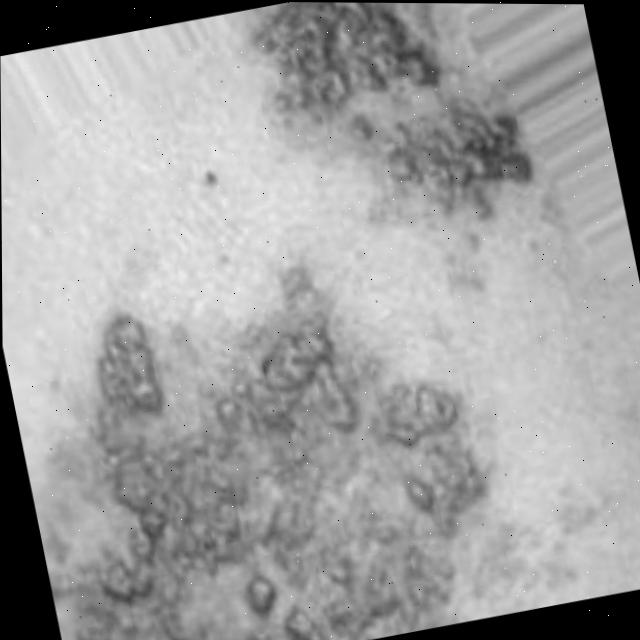Shingles: (21, 266, 498, 640), (244, 2, 544, 258)
